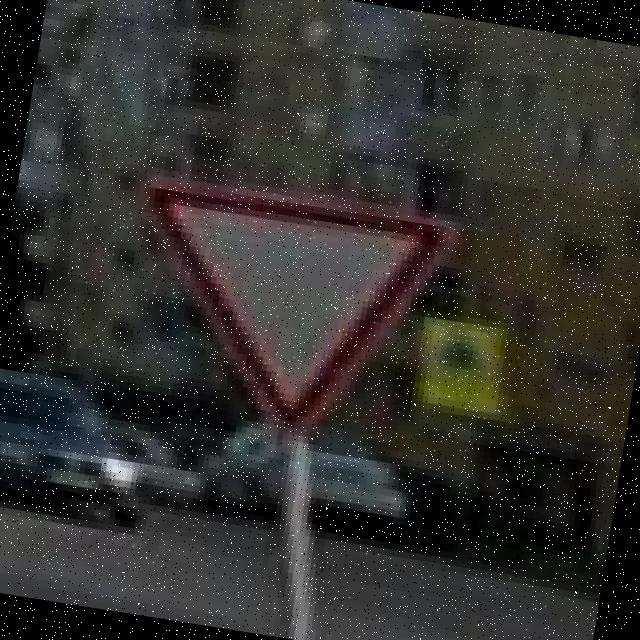Ustap pierwszenstwa: (105, 173, 461, 462)
